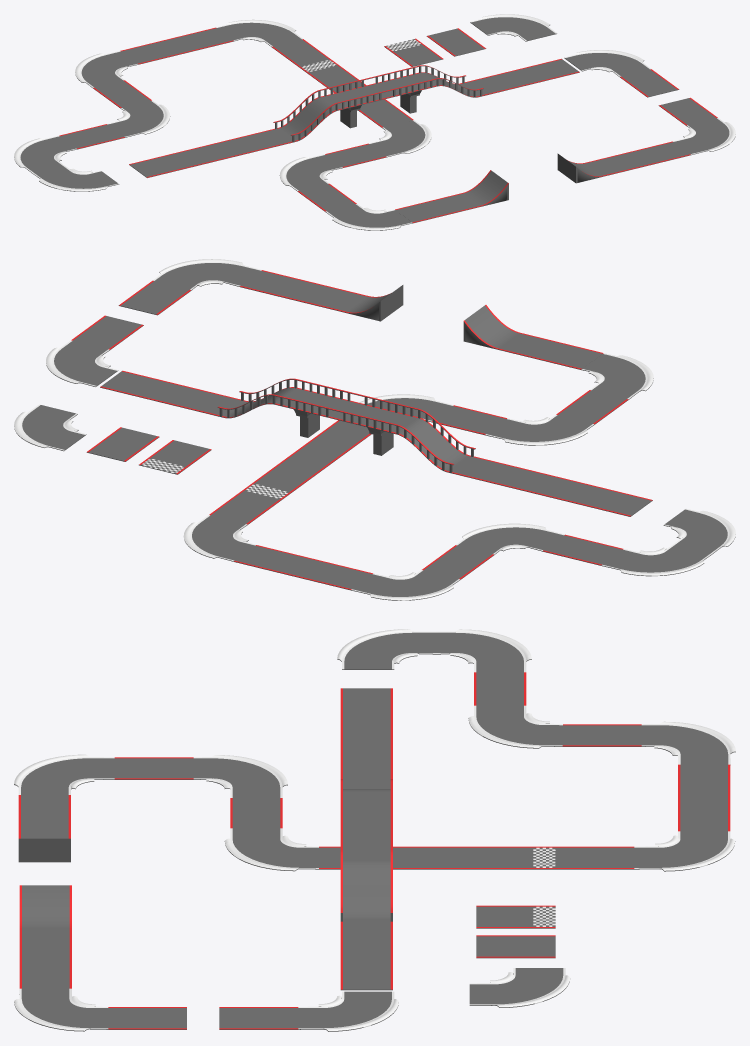
The model's file is low_poly_race_track.glb.
3 renders of one model, top to bottom at view 1: azimuth 30°, elevation 25°; view 2: azimuth 150°, elevation 25°; view 3: azimuth 270°, elevation 25°, orthographic. The views are drawn at different scales.
Parts seen in each view (by area): view 1: Cube.004, Cube.033, Cube.026, Cube.008, Cube.014, Cube.011, Cube.022, Cube.002, Cube.016, Cube.013, Cube.024, Cube.007 (+21 smaller); view 2: Cube.004, Cube.024, Cube.007, Cube.013, Cube.002, Cube.016, Cube.033, Cube.014, Cube.011, Cube.026, Cube.008, Cube.018 (+22 smaller); view 3: Cube.004, Cube.011, Cube.016, Cube.014, Cube.002, Cube.008, Cube.007, Cube.022, Cube.003, Cube.013, Cube.024, Cube.033 (+22 smaller).
Part boxes in pixels (x1,y1,x2,y2): Cube.004: (225, 65, 531, 154); Cube.033: (470, 14, 557, 41); Cube.026: (325, 204, 412, 230); Cube.008: (32, 165, 119, 191); Cube.014: (564, 50, 650, 76); Cube.011: (216, 19, 302, 46); Cube.022: (369, 120, 431, 157); Cube.002: (107, 100, 170, 137); Cube.016: (673, 118, 735, 155); Cube.013: (75, 51, 138, 87); Cube.024: (279, 154, 342, 191); Cube.007: (14, 135, 77, 172); Cube.004: (159, 378, 534, 487); Cube.024: (485, 415, 594, 445); Cube.007: (601, 545, 710, 576); Cube.013: (351, 570, 460, 600); Cube.002: (456, 523, 564, 554); Cube.016: (153, 259, 261, 289); Cube.033: (14, 404, 86, 451); Cube.014: (46, 340, 118, 386); Cube.011: (183, 515, 255, 561); Cube.026: (581, 353, 653, 399); Cube.008: (663, 508, 735, 554); Cube.018: (463, 305, 544, 355); Cube.004: (340, 755, 392, 956); Cube.011: (634, 831, 735, 871); Cube.016: (14, 988, 108, 1031); Cube.014: (298, 991, 398, 1031); Cube.002: (468, 705, 562, 748); Cube.008: (337, 629, 437, 669); Cube.007: (437, 629, 531, 672); Cube.022: (224, 828, 318, 871); Cube.003: (19, 885, 71, 941); Cube.013: (641, 721, 735, 764); Cube.024: (193, 755, 287, 797); Cube.033: (469, 968, 570, 1007).
Size of the model in its own units: 257 by 13.68 by 195.
